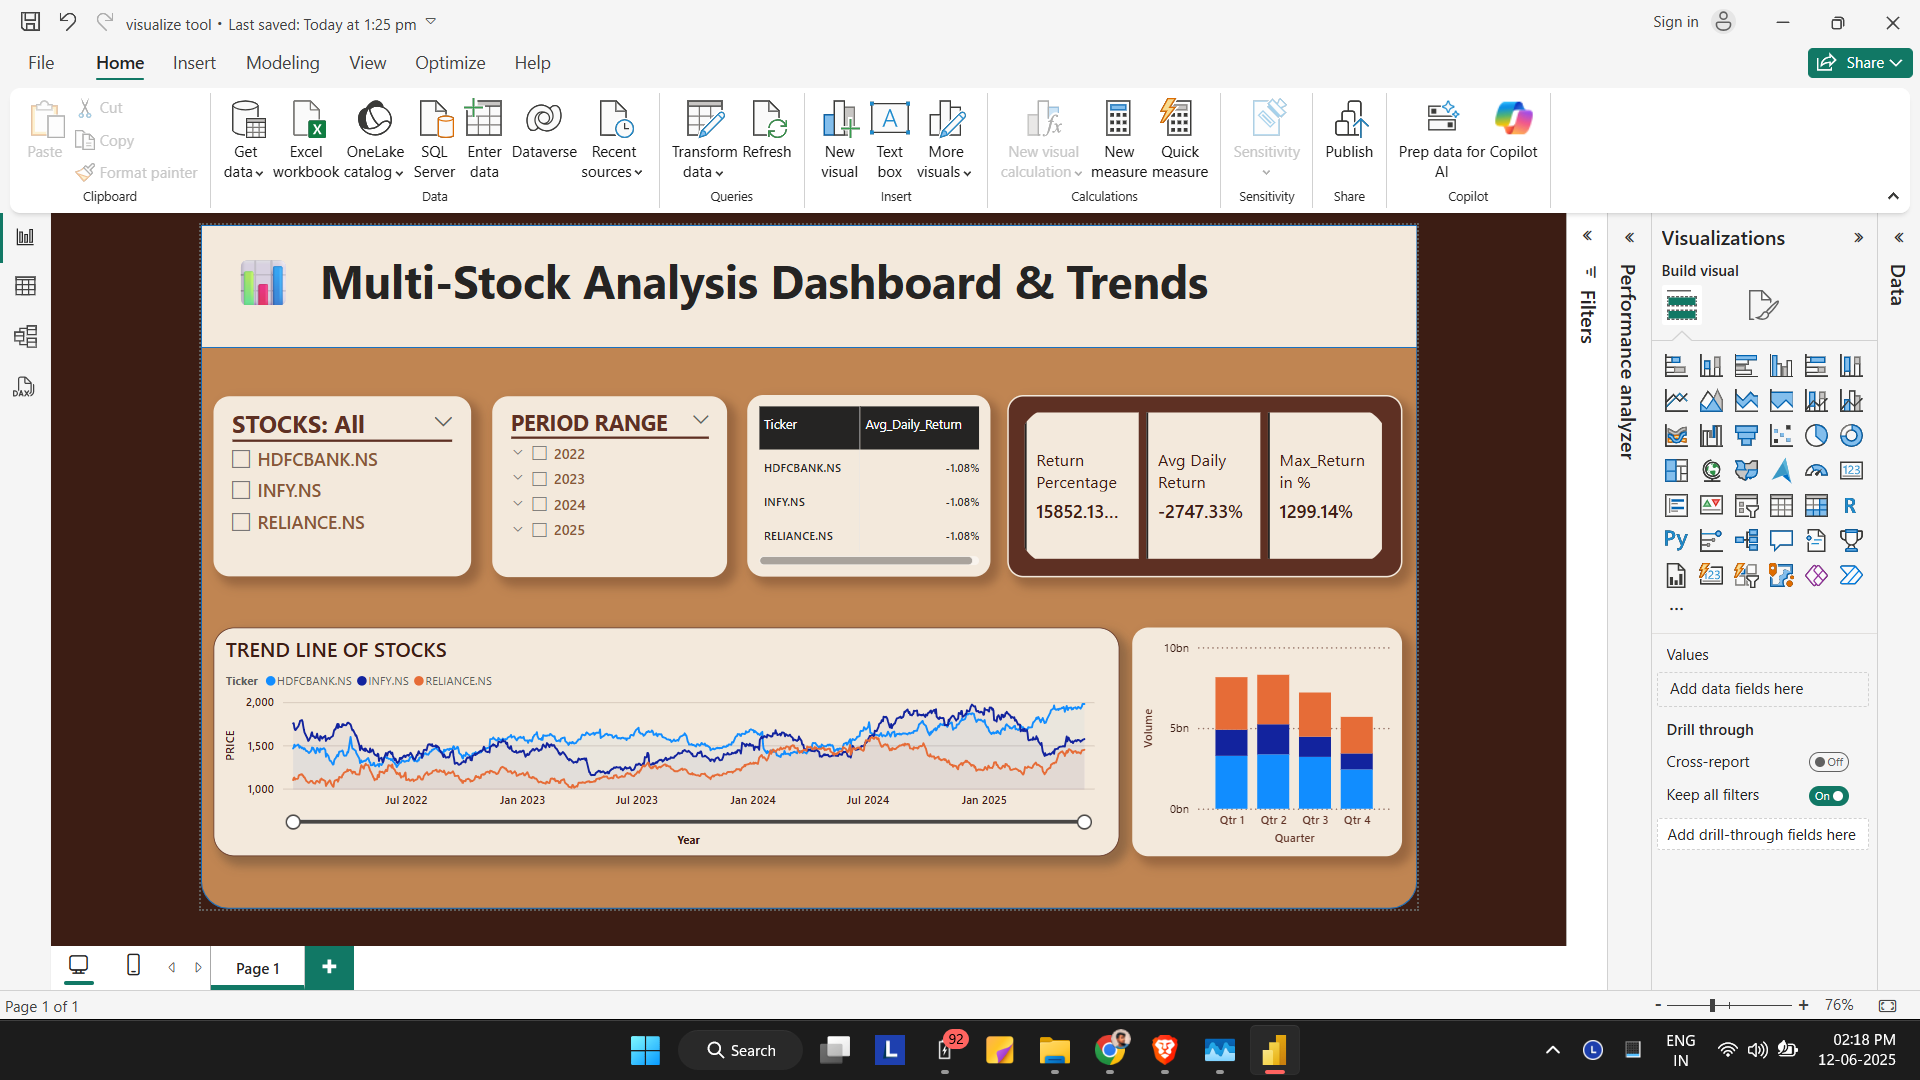

The page's visual inventory and layout, read from the dashboard file:
{"tool":"powerbi","page":{"name":"Page 1","canvas":[1280,720],"ordinal":0},"visuals":[{"type":"shape","box":[0,0,1280.3,719.7],"z":0},{"type":"shape","box":[0,0,1280.4,129.4],"z":1000},{"type":"textbox","title":"Visualize  Stock Analytics","box":[27.6,21.1,1236.8,86.8],"z":2000},{"type":"tableEx","fields":{"Values":["average return.Ticker","stock_data.Avg_Daily_Return"]},"box":[564.5,178.9,273.7,192.1],"z":3000},{"type":"lineChart","title":"TREND LINE OF STOCKS","fields":{"Category":["stock_data.Date.Variation.Date Hierarchy.Year","stock_data.Date.Variation.Date Hierarchy.Quarter","stock_data.Date.Variation.Date Hierarchy.Month","stock_data.Date.Variation.Date Hierarchy.Day"],"Y":["Avg(stock_data.Close)"],"Series":["stock_data.Ticker"]},"box":[13.2,423.7,953.9,240.8],"z":4000},{"type":"columnChart","fields":{"Category":["stock_data.Date.Variation.Date Hierarchy.Year","stock_data.Date.Variation.Date Hierarchy.Quarter","stock_data.Date.Variation.Date Hierarchy.Month","stock_data.Date.Variation.Date Hierarchy.Day"],"Series":["stock_data.Ticker"],"Y":["Sum(stock_data.Volume)"]},"box":[980.3,423.7,284.2,240.8],"z":5000},{"type":"slicer","fields":{"Values":["stock_data.Ticker"]},"box":[13.2,180.3,271.1,189.5],"z":6000},{"type":"slicer","fields":{"Values":["stock_data.Date.Variation.Date Hierarchy.Year","stock_data.Date.Variation.Date Hierarchy.Quarter","stock_data.Date.Variation.Date Hierarchy.Month","stock_data.Date.Variation.Date Hierarchy.Day"]},"box":[301.3,181.6,247.4,189.5],"z":7000},{"type":"cardVisual","fields":{"Data":["Sum(stock_data.Return_Percent)","Sum(stock_data.Avg_Daily_Return)","Sum(stock_data.Max_Return)"]},"box":[848.7,178.9,415.8,192.1],"z":8000}]}

Visuals, with their boxes on the page's 1280x720 design canvas (x1, y1, x2, y2). These are canvas units, not pixel positions in the 1920x1080 screenshot, which may show the page scaled, cropped or inside an application window:
shape: <box>0,0,1280,720</box>
shape: <box>0,0,1280,129</box>
"Visualize  Stock Analytics" textbox: <box>28,21,1264,108</box>
tableEx - average return.Ticker x stock_data.Avg_Daily_Return: <box>564,179,838,371</box>
"TREND LINE OF STOCKS" lineChart: <box>13,424,967,664</box>
columnChart - stock_data.Date.Variation.Date Hierarchy.Year x stock_data.Date.Variation.Date Hierarchy.Quarter: <box>980,424,1264,664</box>
slicer - stock_data.Ticker: <box>13,180,284,370</box>
slicer - stock_data.Date.Variation.Date Hierarchy.Year x stock_data.Date.Variation.Date Hierarchy.Quarter: <box>301,182,549,371</box>
cardVisual - Sum(stock_data.Return_Percent) x Sum(stock_data.Avg_Daily_Return): <box>849,179,1264,371</box>
